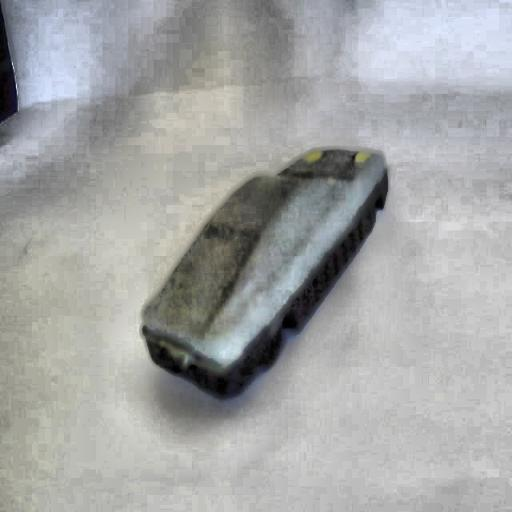normal_car: (134, 144, 392, 402)
